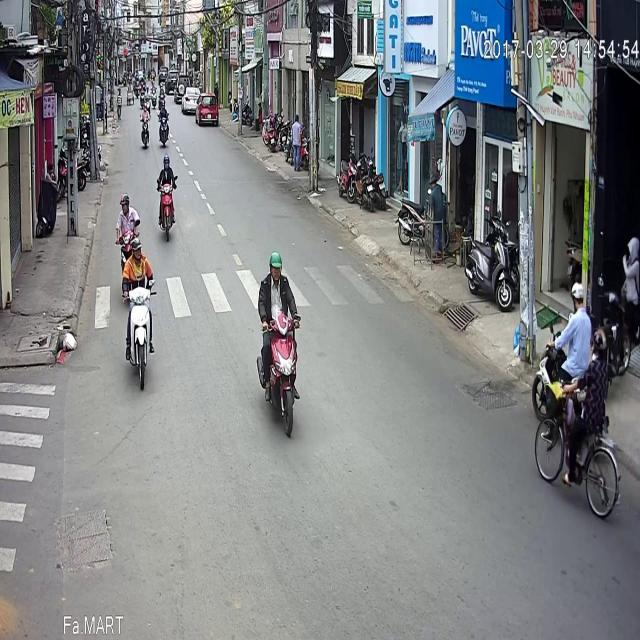bicycle: (534, 270, 620, 460)
car: (196, 34, 218, 66)
motorcycle: (532, 223, 592, 364), (256, 192, 301, 379), (121, 180, 157, 334), (156, 94, 178, 184), (114, 134, 140, 198), (156, 42, 170, 89), (139, 44, 149, 90)
